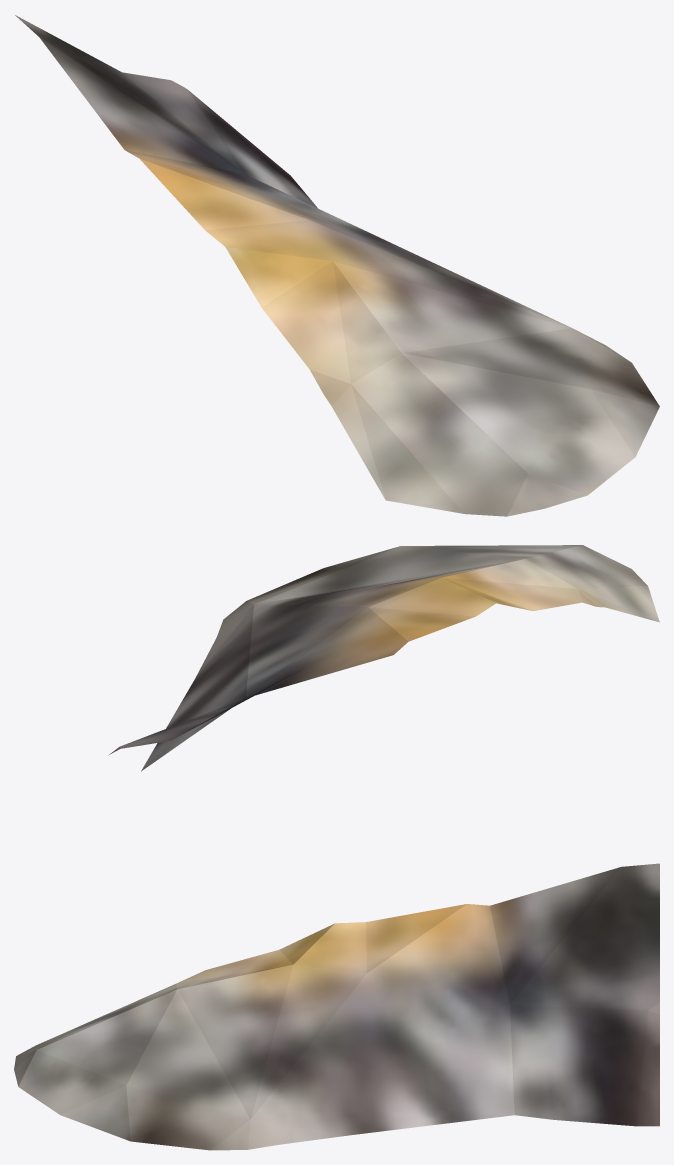
3 views of the same model, one above another, from view 1: azimuth 30°, elevation 25°; view 2: azimuth 150°, elevation 25°; view 3: azimuth 270°, elevation 25° (orthographic). The views are drawn at different scales.
Bounding box in the file's own units: 0.1607 × 0.1009 × 0.3588.
Materials: 1 (1 with a texture image).
